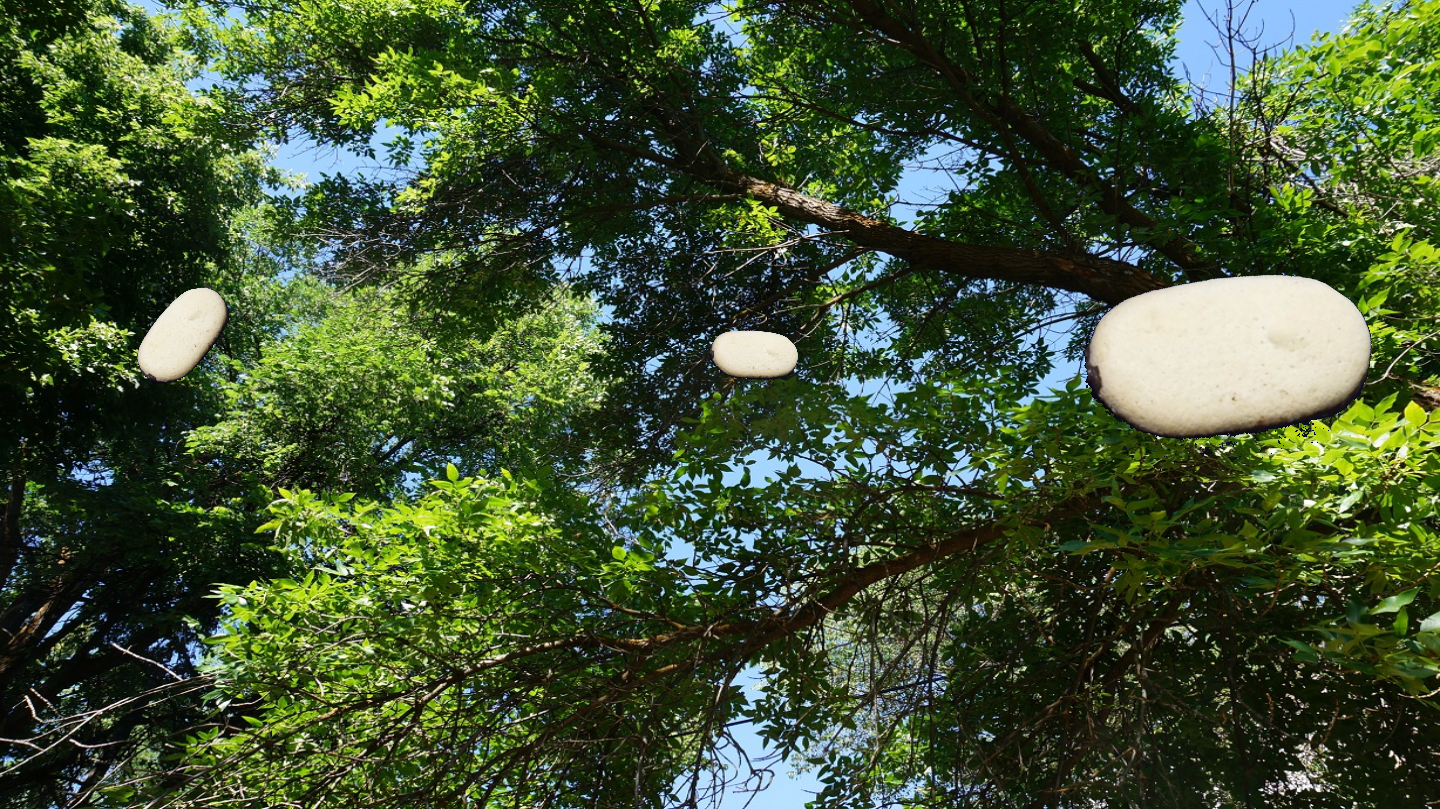test: (1043, 187, 1404, 547), (127, 283, 241, 396), (695, 301, 808, 414)
